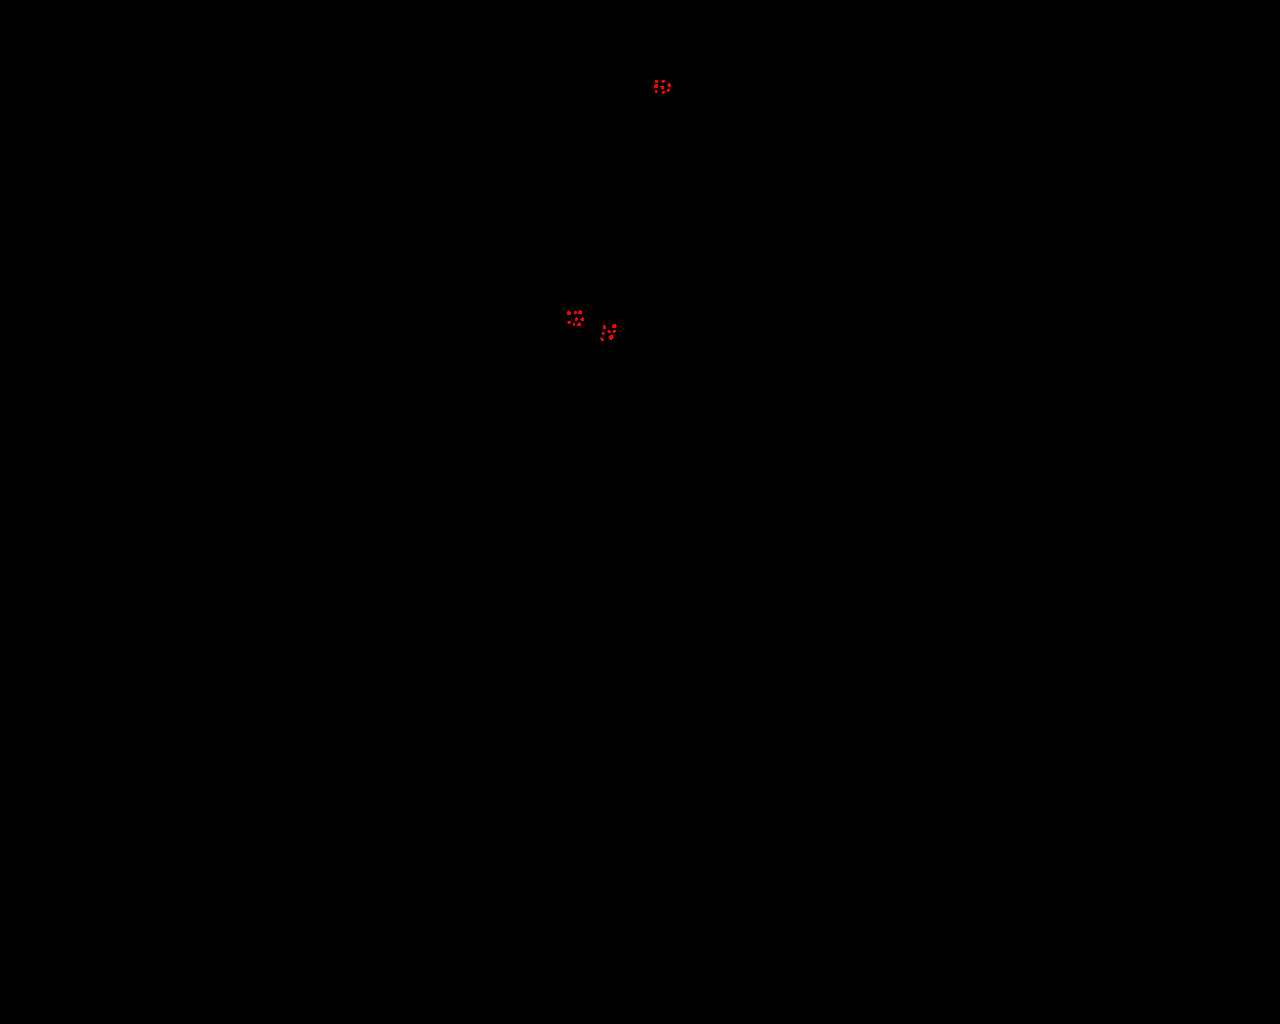Target: (609, 335, 614, 340), (667, 83, 671, 87), (654, 84, 658, 88), (578, 310, 582, 315), (580, 317, 584, 321), (577, 322, 581, 326), (612, 324, 616, 328), (575, 317, 578, 321), (603, 325, 606, 329), (607, 330, 611, 333), (600, 338, 604, 341), (660, 86, 664, 89), (667, 89, 670, 92), (655, 90, 658, 93), (567, 311, 571, 315), (574, 311, 577, 315), (567, 321, 571, 324), (613, 330, 616, 333), (602, 332, 605, 335), (655, 80, 658, 83), (661, 80, 665, 83), (662, 91, 665, 94), (573, 323, 575, 326)
